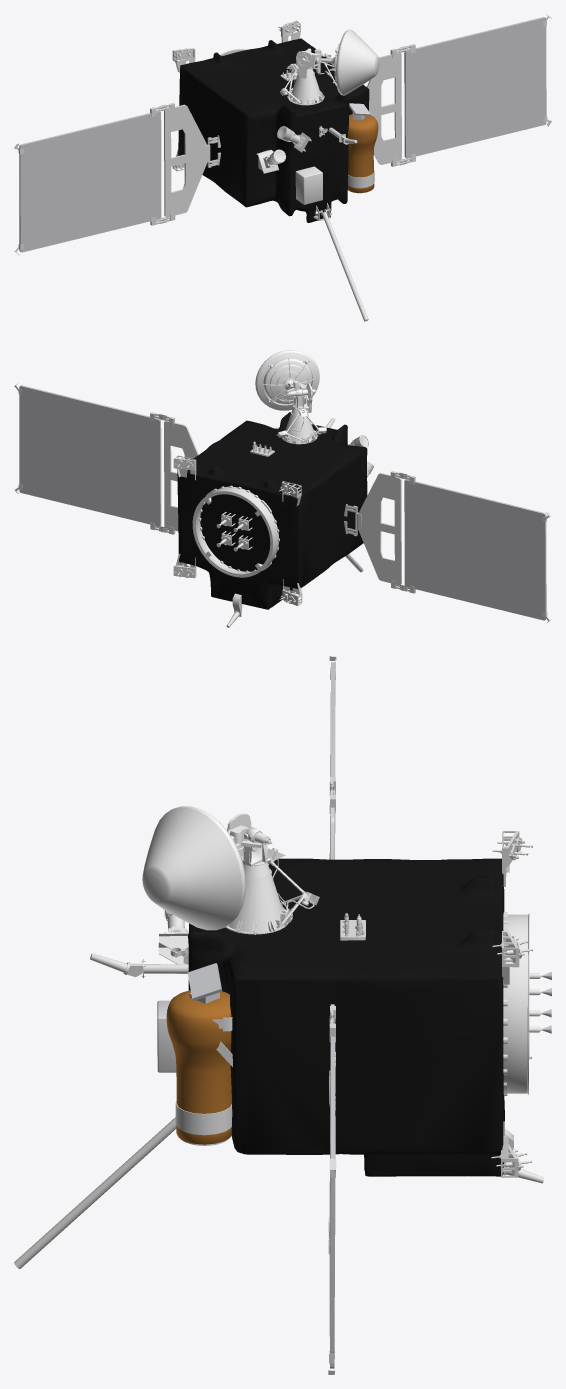
The model's file is sc_danuri.glb.
The picture shows the model from 3 angles, top to bottom: view 1: azimuth 30°, elevation 25°; view 2: azimuth 150°, elevation 25°; view 3: azimuth 270°, elevation 25°; orthographic projection. The views are drawn at different scales.
Visible parts, largest first — view 1: bus, array_01, array_02, instruments.001, instruments.002; view 2: bus, array_01, array_02, instruments.001, instruments.002; view 3: bus, instruments.001, instruments.002, array_02, array_01.
Boxes of the visible parts, x1,y1,x2,y2 form: bus: (178,38,369,222); array_01: (14,102,220,255); array_02: (367,14,551,166); instruments.001: (172,20,379,321); instruments.002: (280,29,350,105); bus: (177,412,367,609); array_01: (344,471,551,622); array_02: (14,382,198,534); instruments.001: (173,418,373,627); instruments.002: (255,350,326,444); bus: (188,858,504,1176); instruments.001: (14,807,551,1268); instruments.002: (163,806,319,934); array_02: (328,1004,336,1374); array_01: (329,656,336,859).
Bounding box in the file's own units: 1.94 × 0.8622 × 0.8671.
Materials: 9 (2 with a texture image).
